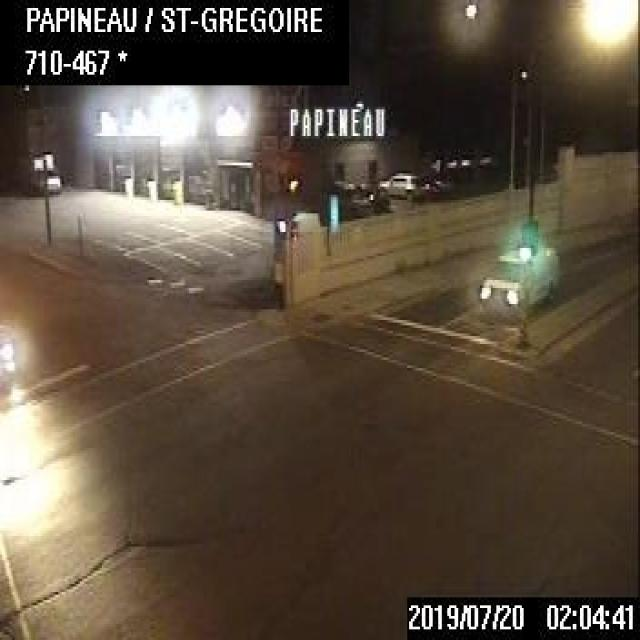vehicle: (478, 243, 556, 309), (319, 179, 389, 225), (26, 148, 63, 194), (376, 169, 427, 199)
